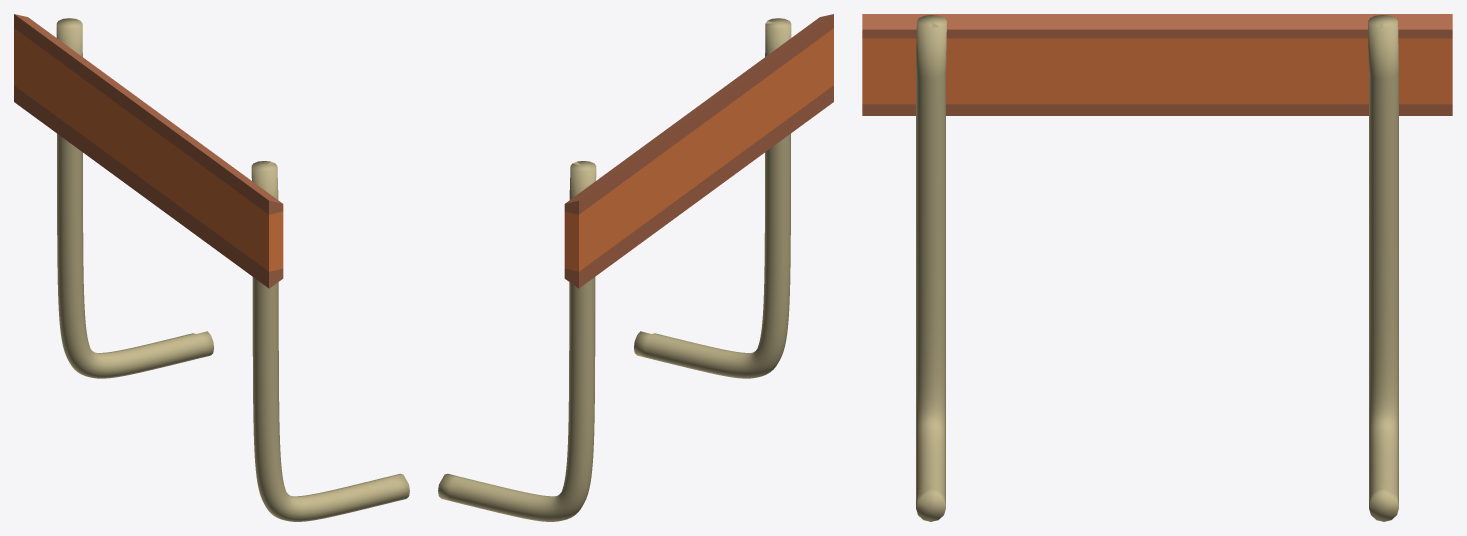
Rendered from hurdels.fbx.
3 views of the same model, side by side, from view 1: azimuth 30°, elevation 25°; view 2: azimuth 150°, elevation 25°; view 3: azimuth 270°, elevation 25° (orthographic). The views are drawn at different scales.
Visible parts, largest first — view 1: NurbsPath; view 2: NurbsPath; view 3: NurbsPath.
Boxes of the visible parts, x1=… form: NurbsPath: x1=14, y1=14, x2=409, y2=521; NurbsPath: x1=438, y1=14, x2=833, y2=521; NurbsPath: x1=862, y1=14, x2=1452, y2=521.
Bounding box in the file's own units: 218 × 465 × 588.
